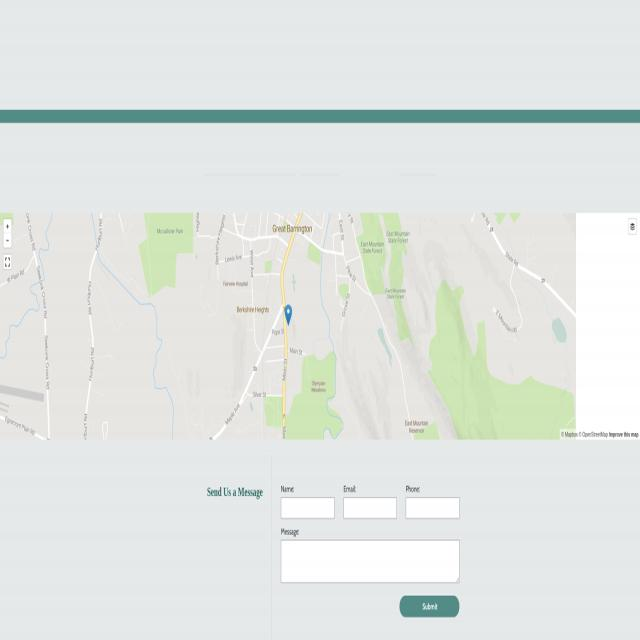button: (400, 595, 460, 617), (284, 304, 292, 326), (628, 218, 638, 235), (4, 219, 12, 234), (4, 234, 12, 248), (4, 255, 12, 269)
field: (280, 540, 460, 583), (281, 497, 335, 518), (343, 497, 397, 518), (406, 497, 460, 518)
